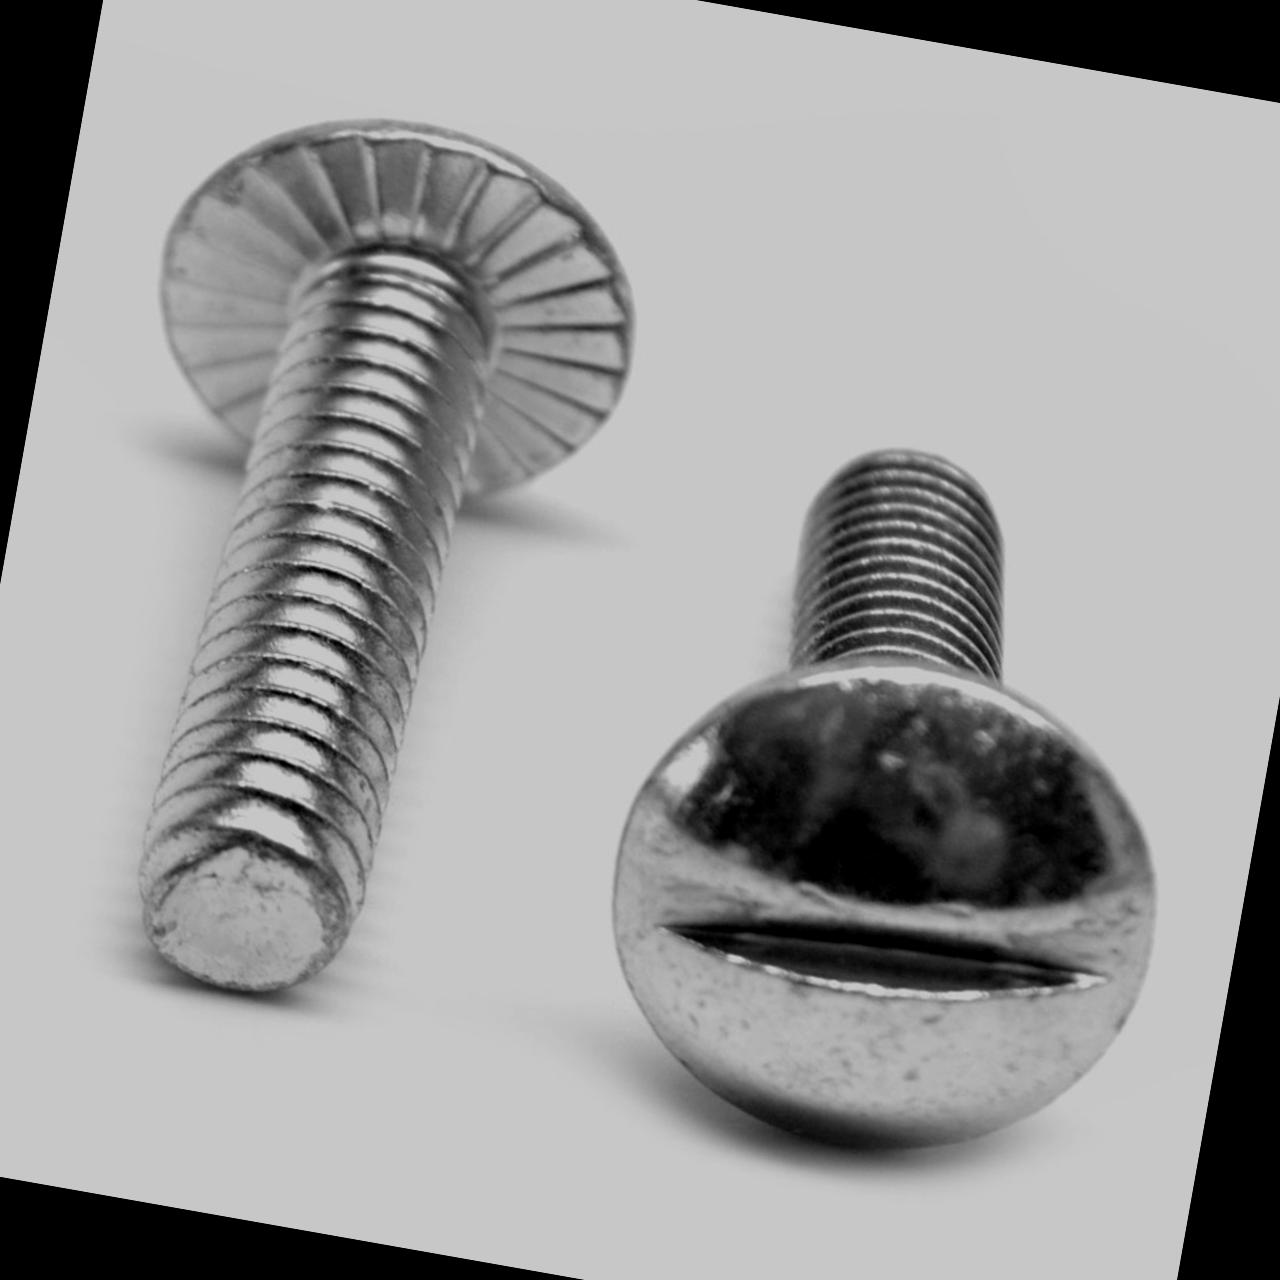screw: (576, 626, 1184, 1205)
